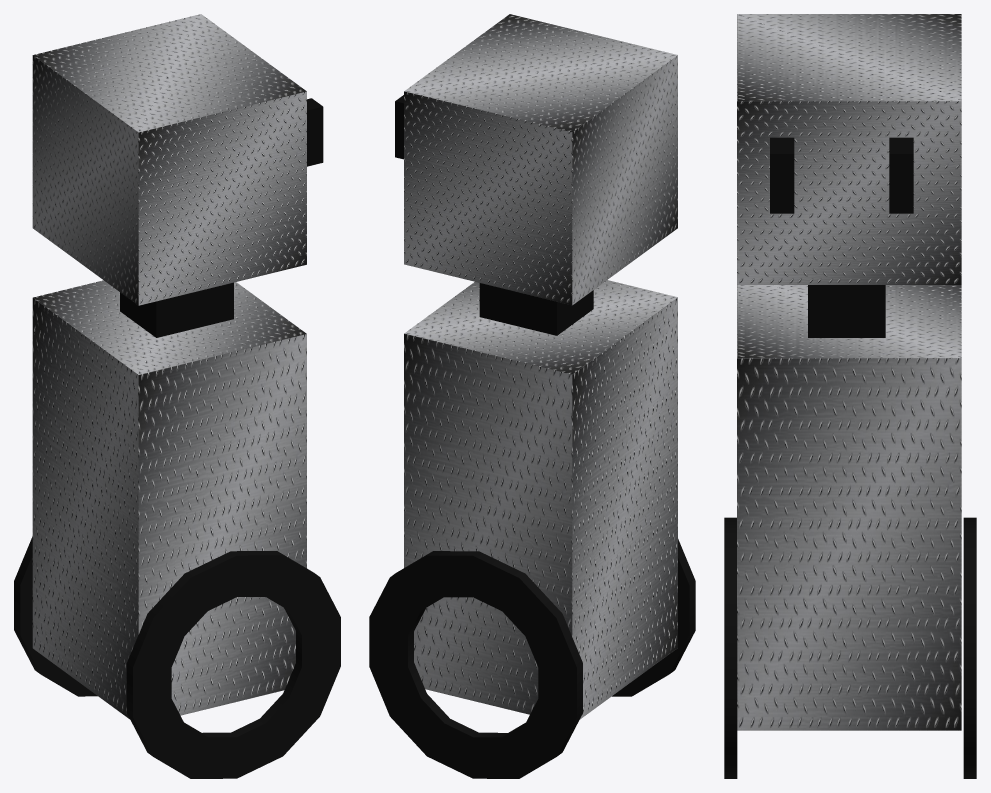
File: Robot.FBX
The picture shows the model from 3 angles, left to right: view 1: azimuth 30°, elevation 25°; view 2: azimuth 150°, elevation 25°; view 3: azimuth 270°, elevation 25°; orthographic projection. The views are drawn at different scales.
Parts seen in each view (by area): view 1: Box001, Box002, Tube002, Box005, Tube001, Box003; view 2: Box001, Box002, Tube001, Box005, Tube002; view 3: Box001, Box002, Box005, Tube001, Tube002, Box004, Box003.
Boxes of the visible parts, x1,y1,x2,y2 form: Box001: (32, 280, 306, 719); Box002: (32, 14, 306, 305); Tube002: (126, 551, 340, 778); Box005: (120, 282, 233, 337); Tube001: (14, 536, 97, 696); Box003: (307, 98, 323, 166); Box001: (404, 280, 677, 719); Box002: (404, 14, 677, 305); Tube001: (369, 551, 582, 778); Box005: (479, 283, 593, 335); Tube002: (612, 539, 695, 696); Box001: (737, 285, 961, 730); Box002: (737, 14, 961, 284); Box005: (808, 285, 885, 337); Tube001: (963, 517, 976, 778); Tube002: (724, 517, 737, 778); Box004: (889, 137, 913, 213); Box003: (770, 137, 794, 213).
Size of what is drawn, in the model's own units: 41.22 by 124 by 40.04.
Materials: 3 (1 with a texture image).
